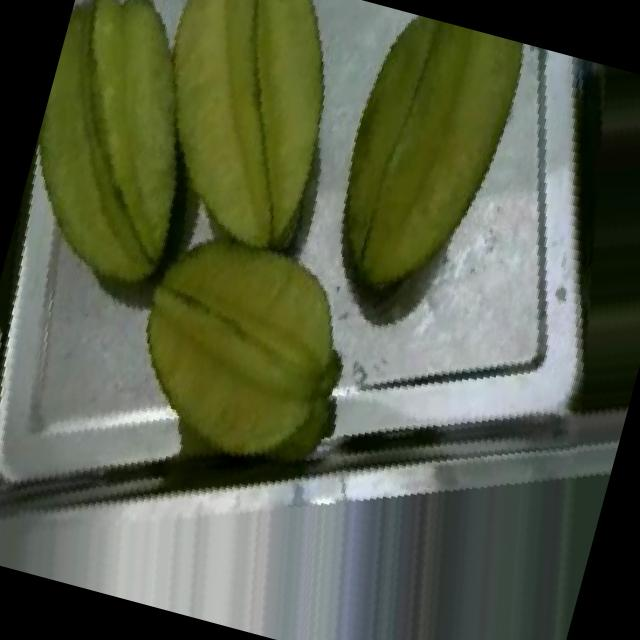fruit: (265, 0, 584, 349), (79, 182, 404, 516), (55, 0, 399, 299)
